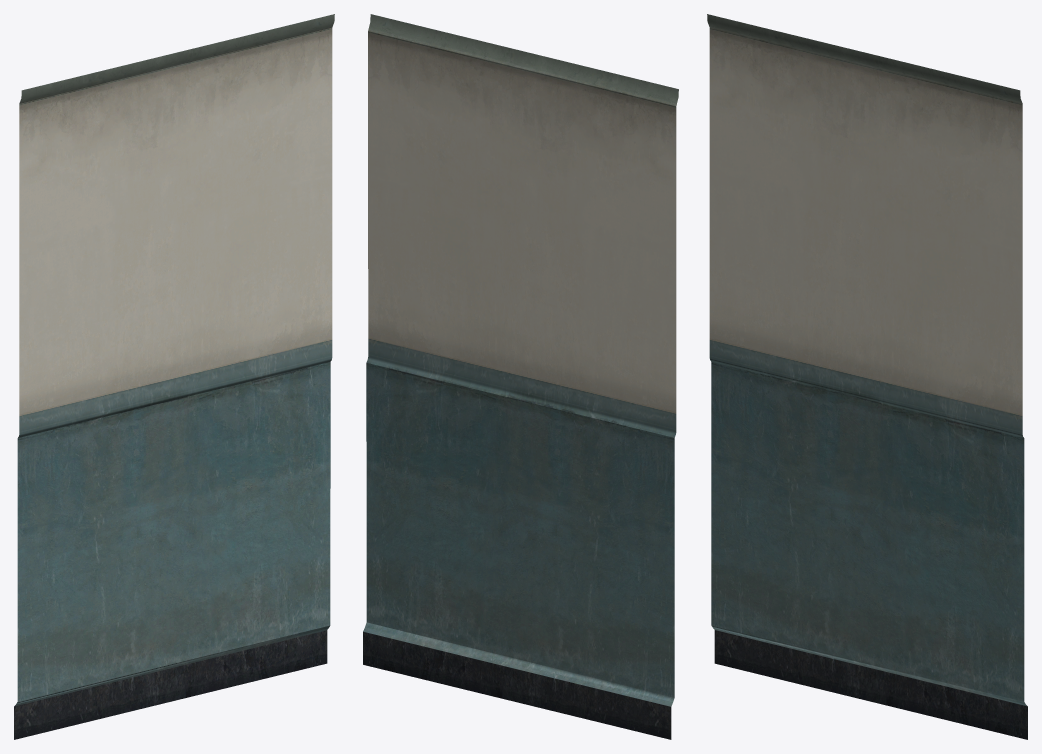
The model's file is scanroom_corridor_wall_flat_short.dae.
3 views of the same model, side by side, from view 1: azimuth 30°, elevation 25°; view 2: azimuth 150°, elevation 25°; view 3: azimuth 330°, elevation 25° (orthographic).
Visible parts, largest first — view 1: pPlane17; view 2: pPlane17; view 3: pPlane17.
Boxes of the visible parts, <box> form: pPlane17: <box>14,14,334,739</box>; pPlane17: <box>363,14,678,739</box>; pPlane17: <box>707,14,1027,739</box>.
Size of the model in its own units: 200 by 400 by 8.52.
